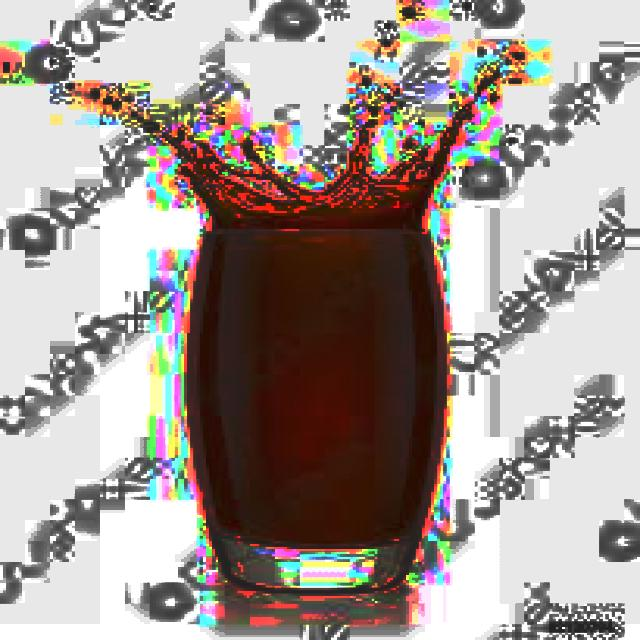drink: (175, 218, 459, 598)
